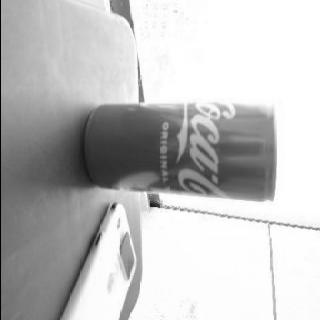alumunium_can: (81, 100, 279, 204)
